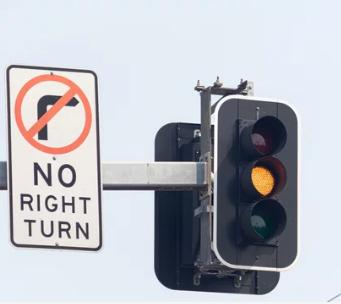yellow_light: (213, 96, 299, 271)
